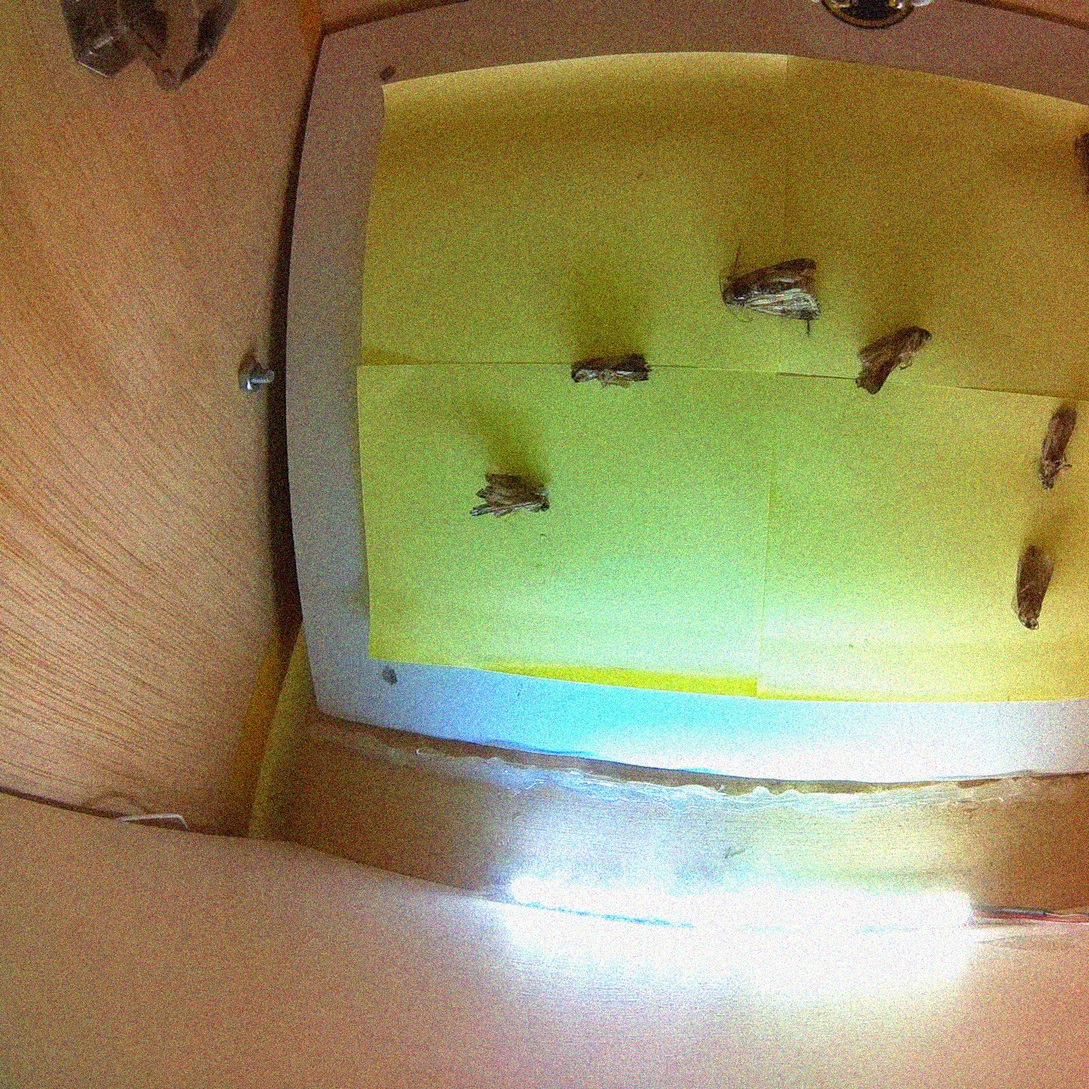Spodoptera litura: (720, 243, 820, 339), (855, 325, 932, 395), (470, 471, 553, 520), (1037, 408, 1079, 491), (1015, 547, 1057, 630), (571, 354, 653, 389)
